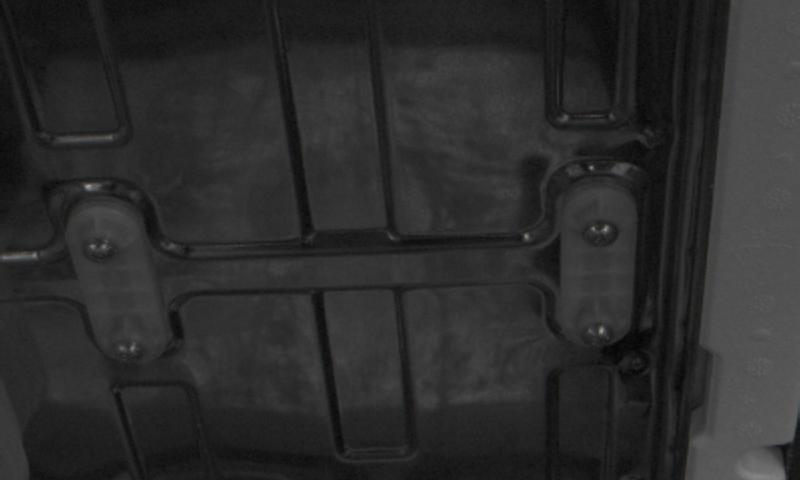vida-ok: (80, 231, 126, 275), (582, 213, 628, 256), (572, 314, 618, 353), (108, 330, 153, 369)
